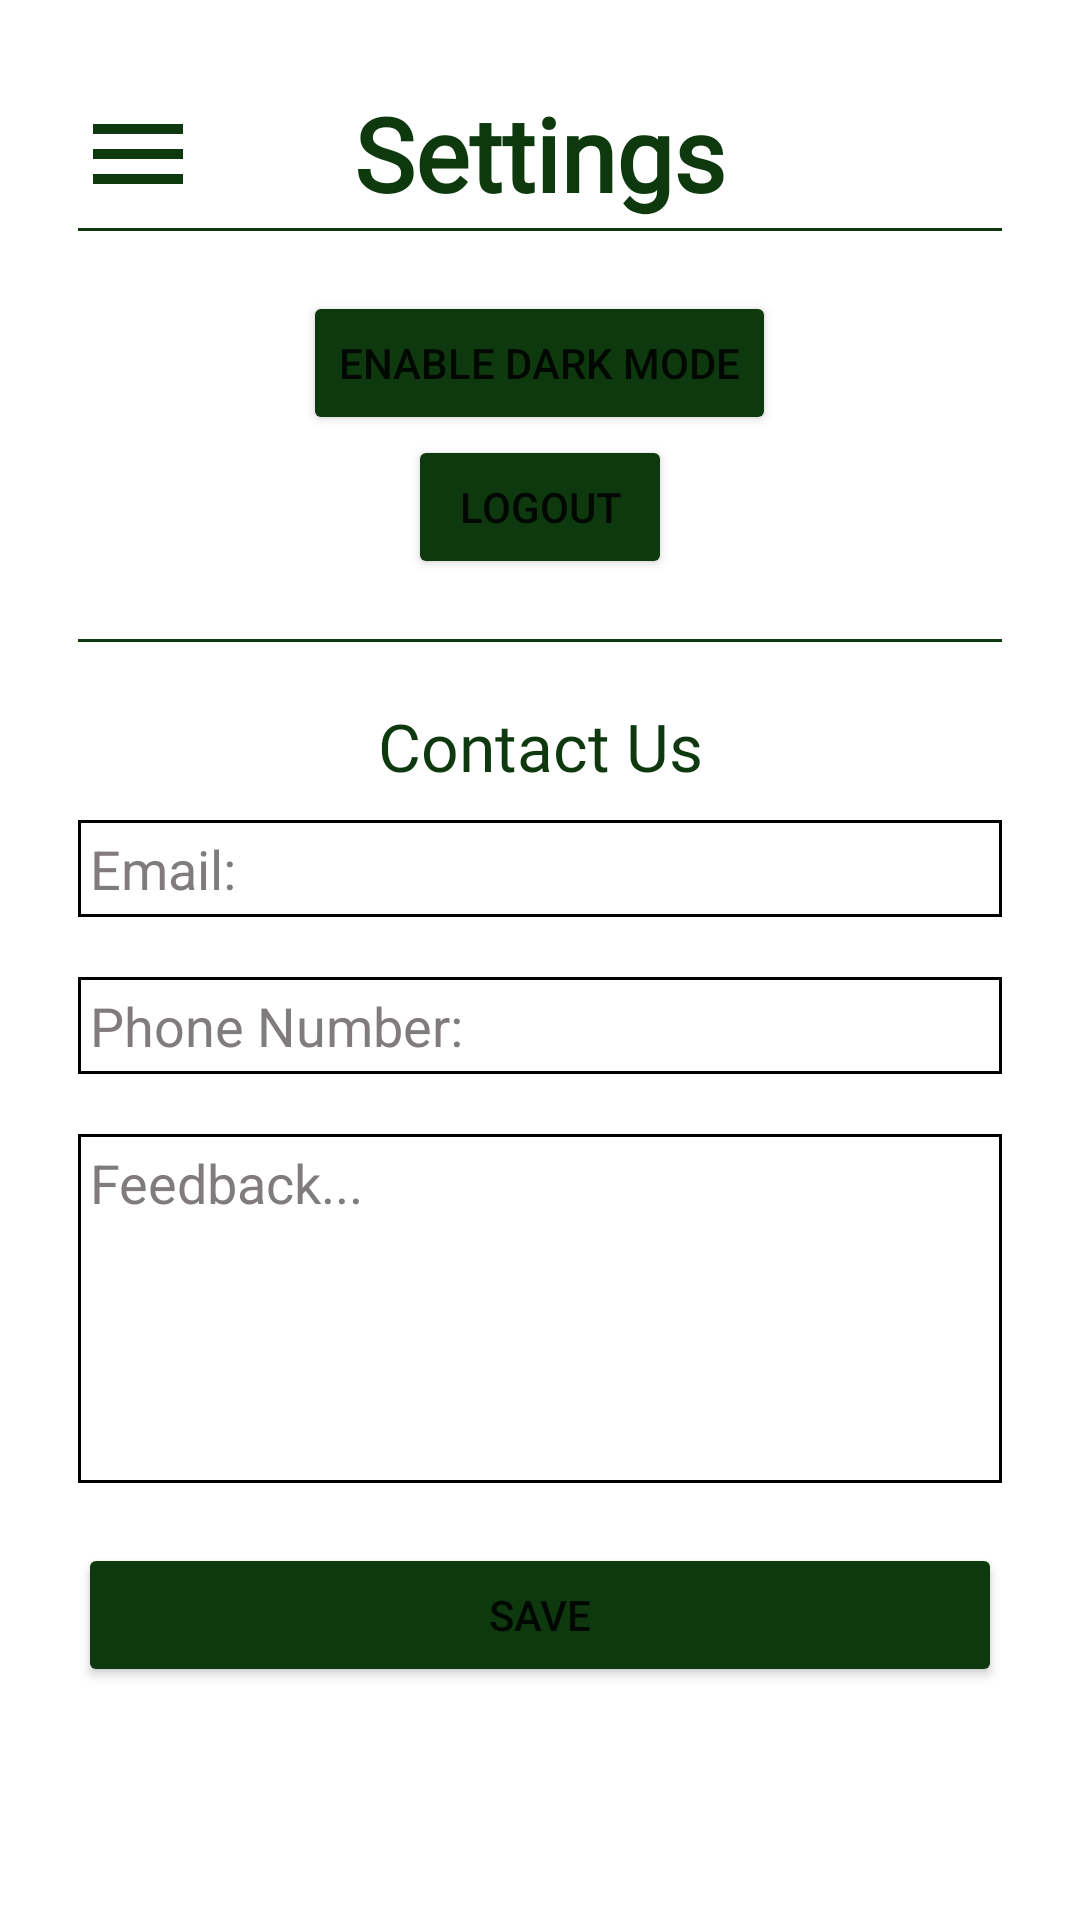

Where icons sit on this 1080w x 1920h app screen, as (x1=x1, y1=y1, x2=x2, y2=y2):
menu: (x1=93, y1=124, x2=183, y2=184)
